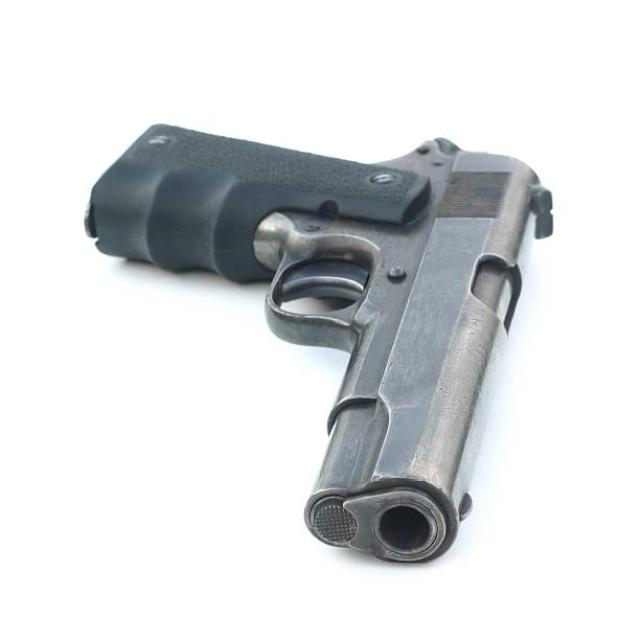pistol: (83, 119, 567, 579)
